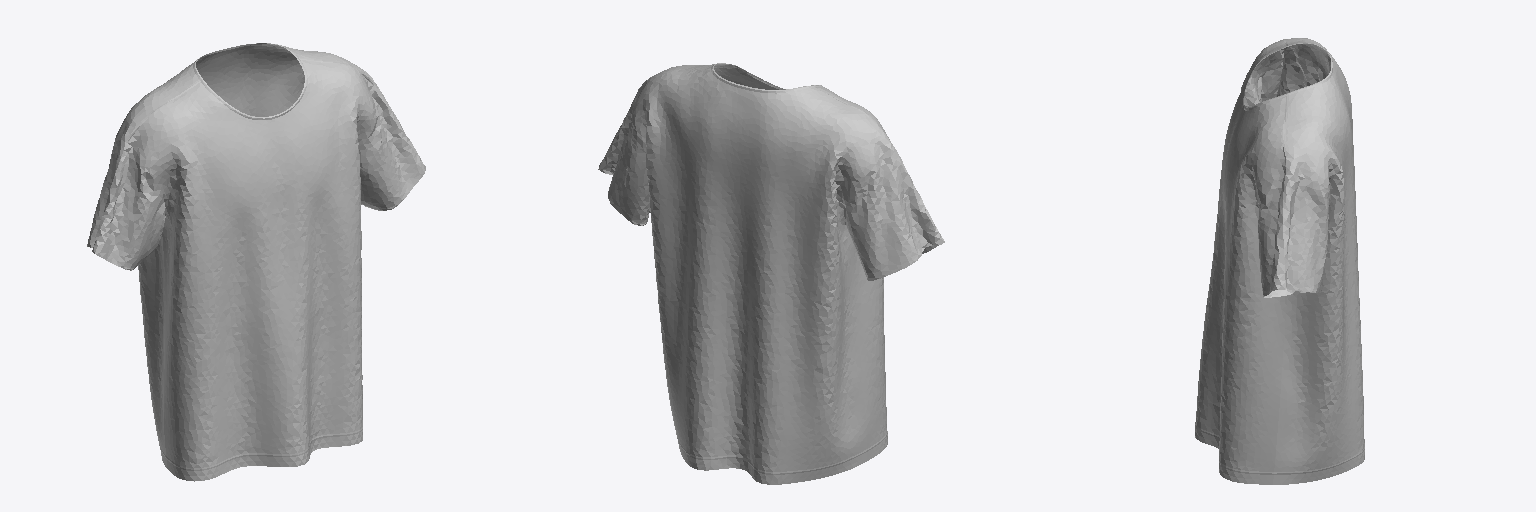
File: mesh-checkpoint.obj
3 views of the same model, side by side, from view 1: azimuth 30°, elevation 25°; view 2: azimuth 150°, elevation 25°; view 3: azimuth 270°, elevation 25° (orthographic).
Parts seen in each view (by area): view 1: Root_ClothPiece_Fabric_0_ClothPiece_3, Root_ClothPiece_Fabric_0_ClothPiece_2, Root_ClothPiece_Fabric_0_ClothPiece_1, Root_ClothPiece_Fabric_0_ClothPiece_0, Root_ClothPiece_Fabric_0_ClothPiece_5; view 2: Root_ClothPiece_Fabric_0_ClothPiece_2, Root_ClothPiece_Fabric_0_ClothPiece_5, Root_ClothPiece_Fabric_0_ClothPiece_3, Root_ClothPiece_Fabric_0_ClothPiece_4, Root_ClothPiece_Fabric_0_ClothPiece_1; view 3: Root_ClothPiece_Fabric_0_ClothPiece_2, Root_ClothPiece_Fabric_0_ClothPiece_3, Root_ClothPiece_Fabric_0_ClothPiece_4, Root_ClothPiece_Fabric_0_ClothPiece_0, Root_ClothPiece_Fabric_0_ClothPiece_5, Root_ClothPiece_Fabric_0_ClothPiece_1.
Part boxes in pixels (bbox=[...]): Root_ClothPiece_Fabric_0_ClothPiece_3: bbox=[127, 58, 376, 481]; Root_ClothPiece_Fabric_0_ClothPiece_2: bbox=[115, 43, 374, 467]; Root_ClothPiece_Fabric_0_ClothPiece_1: bbox=[92, 143, 165, 270]; Root_ClothPiece_Fabric_0_ClothPiece_0: bbox=[359, 85, 425, 210]; Root_ClothPiece_Fabric_0_ClothPiece_5: bbox=[87, 140, 126, 247]; Root_ClothPiece_Fabric_0_ClothPiece_2: bbox=[631, 63, 892, 484]; Root_ClothPiece_Fabric_0_ClothPiece_5: bbox=[843, 146, 932, 280]; Root_ClothPiece_Fabric_0_ClothPiece_3: bbox=[671, 63, 889, 460]; Root_ClothPiece_Fabric_0_ClothPiece_4: bbox=[598, 90, 649, 225]; Root_ClothPiece_Fabric_0_ClothPiece_1: bbox=[908, 174, 944, 253]; Root_ClothPiece_Fabric_0_ClothPiece_2: bbox=[1273, 38, 1364, 484]; Root_ClothPiece_Fabric_0_ClothPiece_3: bbox=[1195, 39, 1288, 484]; Root_ClothPiece_Fabric_0_ClothPiece_4: bbox=[1283, 175, 1329, 293]; Root_ClothPiece_Fabric_0_ClothPiece_0: bbox=[1258, 176, 1292, 297]; Root_ClothPiece_Fabric_0_ClothPiece_5: bbox=[1280, 50, 1324, 95]; Root_ClothPiece_Fabric_0_ClothPiece_1: bbox=[1257, 60, 1283, 102].
Size of the model in its own units: 0.705 by 0.7581 by 0.3073.